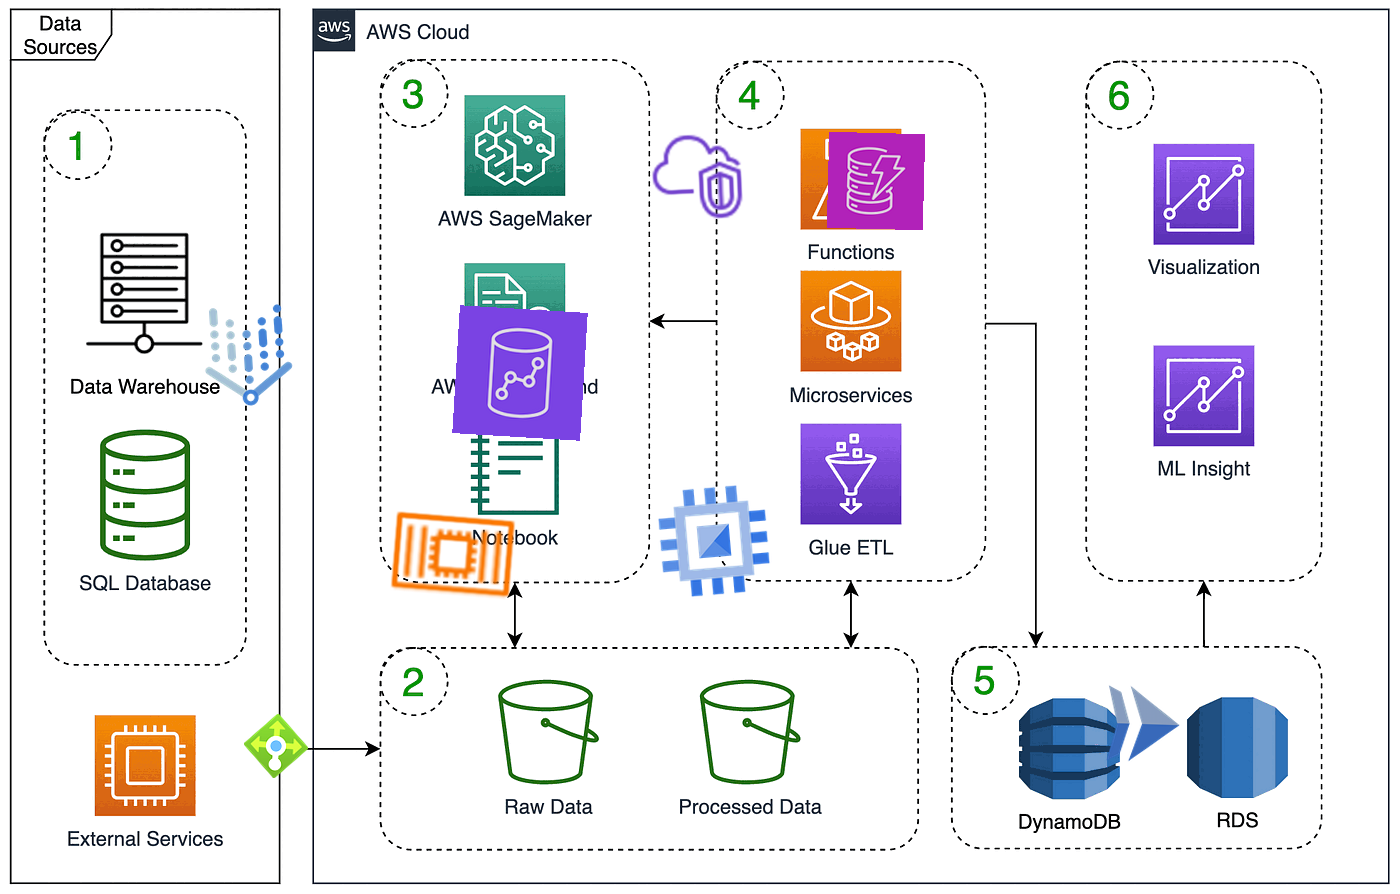aws_amazon_dynamodb: (826, 131, 926, 231)
aws_amazon_redshift: (452, 305, 588, 441)
aws_elastic_container_service_container_2: (384, 485, 522, 623)
aws_vpc_virtual_private_cloud_vpc: (646, 126, 748, 228)
azure_load_balancers: (241, 711, 311, 781)
gcp_cloud_run: (1092, 674, 1192, 774)
gcp_compute_engine: (644, 471, 784, 611)
gcp_vertex_ai: (179, 287, 317, 425)
